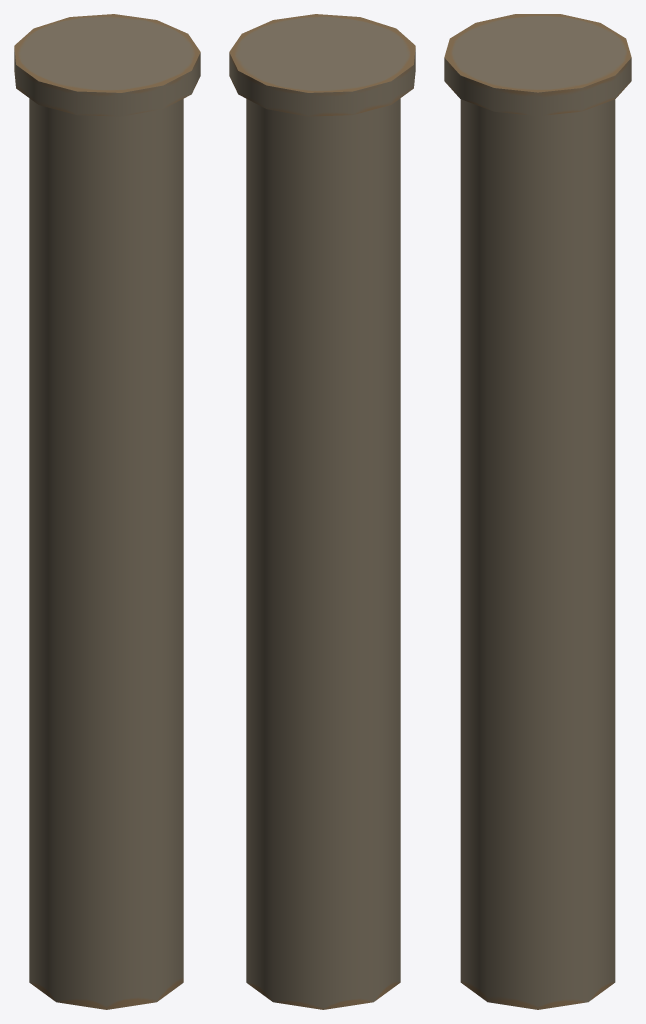
Rendered from SM_metal_fence_02.glb.
The picture shows the model from 3 angles, left to right: view 1: azimuth 30°, elevation 25°; view 2: azimuth 150°, elevation 25°; view 3: azimuth 270°, elevation 25°; orthographic projection.
Visible parts, largest first — view 1: SM_metal_fence_02; view 2: SM_metal_fence_02; view 3: SM_metal_fence_02.
Boxes of the visible parts, <box> form: SM_metal_fence_02: <box>14,14,200,1009</box>; SM_metal_fence_02: <box>229,14,415,1009</box>; SM_metal_fence_02: <box>444,14,631,1009</box>.
Bounding box in the file's own units: 0.3556 × 1.95 × 0.3582.
Materials: 1 (1 with a texture image).
